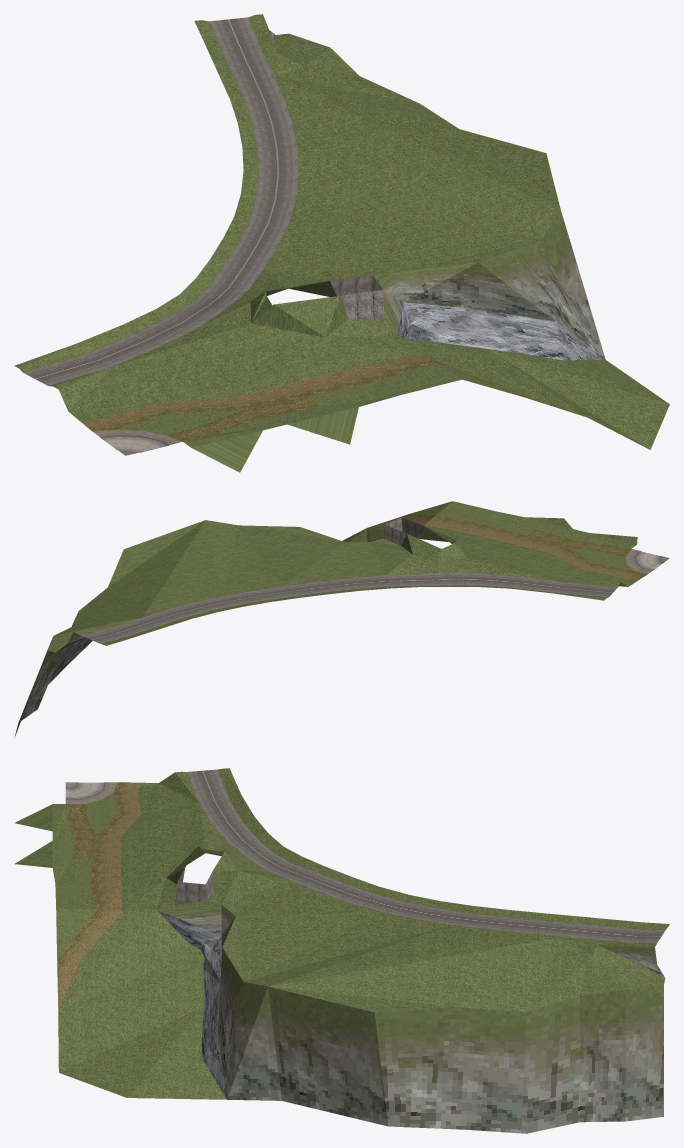
The model's file is lod_s_bit_02.obj.
The picture shows the model from 3 angles, top to bottom: view 1: azimuth 30°, elevation 25°; view 2: azimuth 150°, elevation 25°; view 3: azimuth 270°, elevation 25°; orthographic projection. The views are drawn at different scales.
Visible parts, largest first — view 1: lod_s_bit_02; view 2: lod_s_bit_02; view 3: lod_s_bit_02.
Boxes of the visible parts, box(x1,y1,x2,y2) form: lod_s_bit_02: box(14, 14, 669, 472); lod_s_bit_02: box(14, 501, 669, 738); lod_s_bit_02: box(14, 768, 669, 1133).
Size of the model in its own units: 228 by 59.18 by 253.
13 materials, 13 textured.
